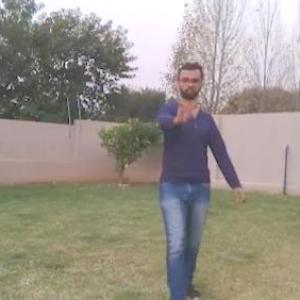takeoff-hand: (170, 90, 197, 126)
